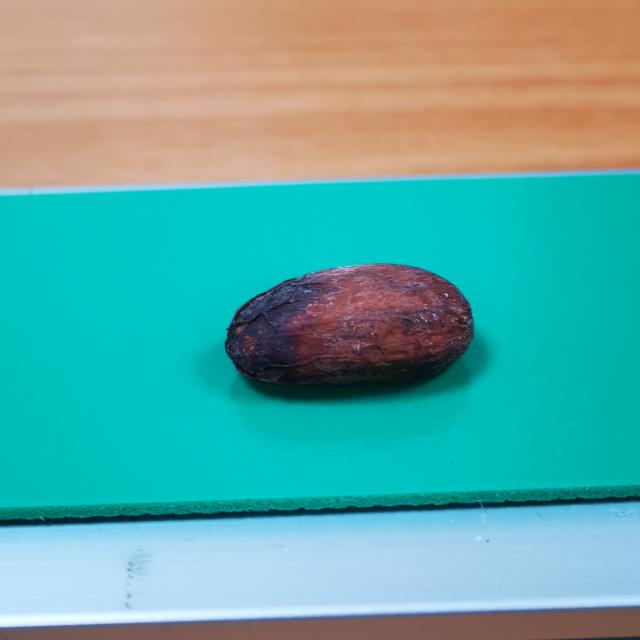Fine_cocoabeans: (154, 219, 564, 449)
